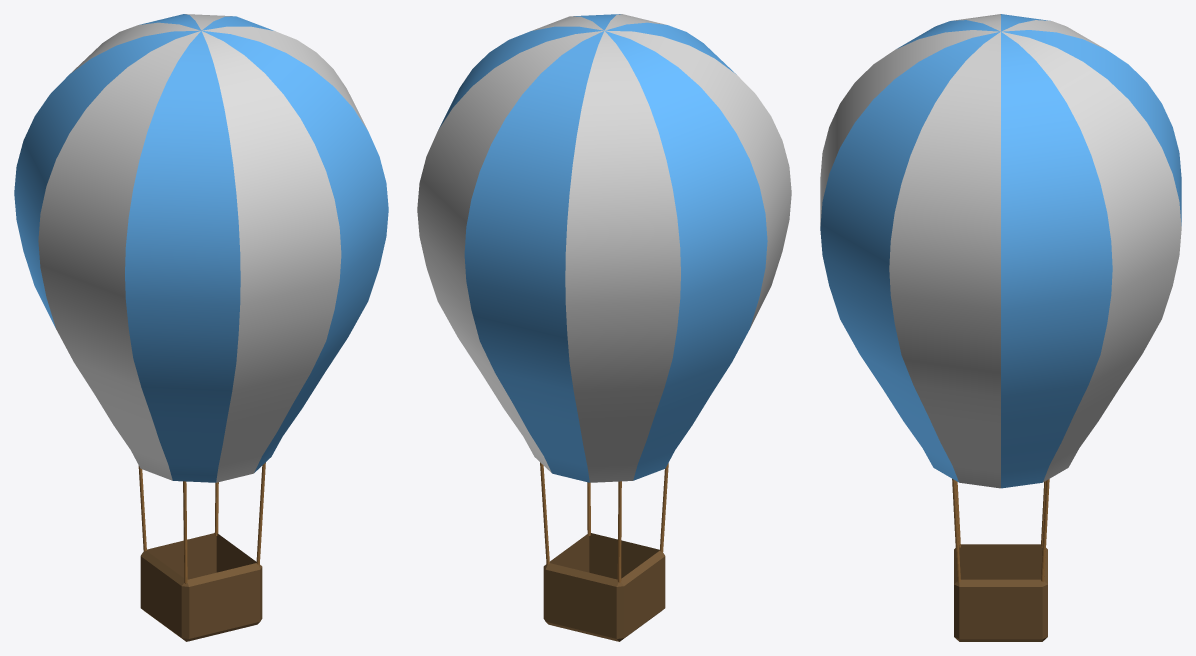
Rendered from Baloon.fbx.
The picture shows the model from 3 angles, left to right: view 1: azimuth 30°, elevation 25°; view 2: azimuth 150°, elevation 25°; view 3: azimuth 270°, elevation 25°; orthographic projection.
Visible parts, largest first — view 1: Basket1.001; view 2: Basket1.001; view 3: Basket1.001.
Boxes of the visible parts, bbox=[...] form: Basket1.001: bbox=[14, 14, 388, 641]; Basket1.001: bbox=[417, 14, 791, 641]; Basket1.001: bbox=[820, 14, 1181, 641].
Size of the model in its own units: 8.2 by 14.11 by 7.8.
